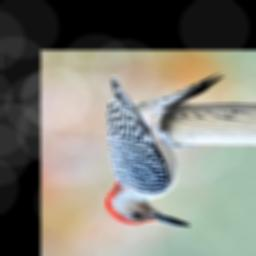Woodpecker: (94, 62, 234, 233)
